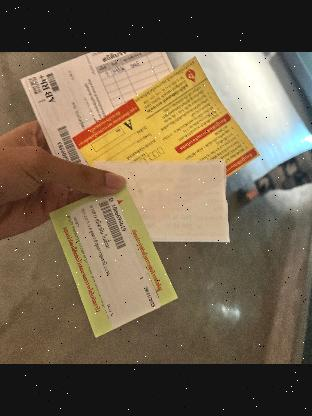Others: (72, 57, 258, 195), (42, 181, 182, 342), (24, 52, 187, 172), (90, 158, 240, 248)
